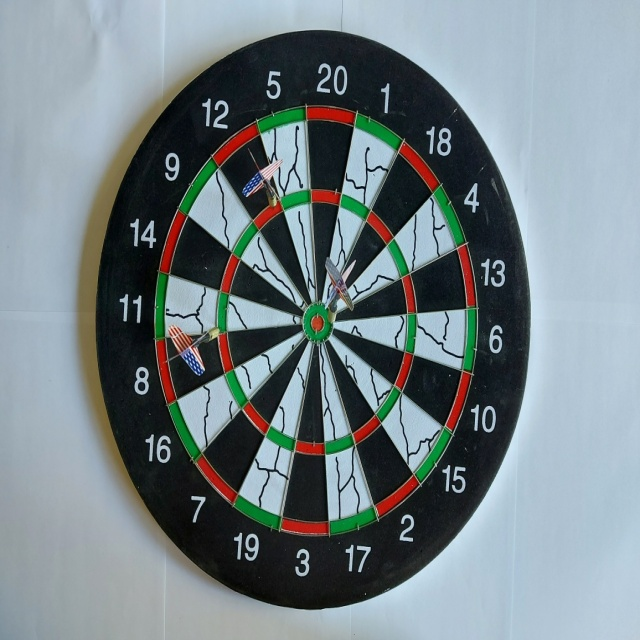Dart: (231, 144, 292, 223), (310, 250, 364, 335), (157, 318, 232, 379)
